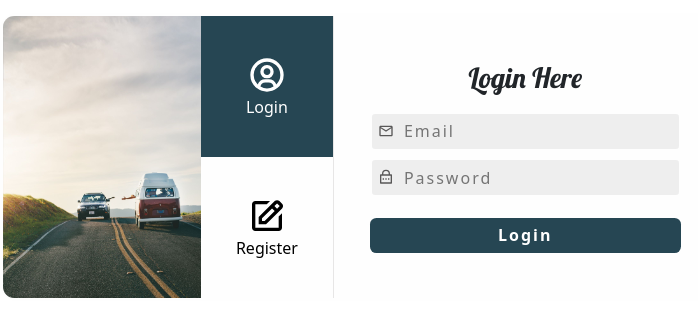
Test: Given a LoginRegisterForm component › When invoked and the user clicks on the Register field › Then it should render 3 input fields and a button wth the text 'Register'
Click the text "Register" at [267, 248], box [236,236,298,260]
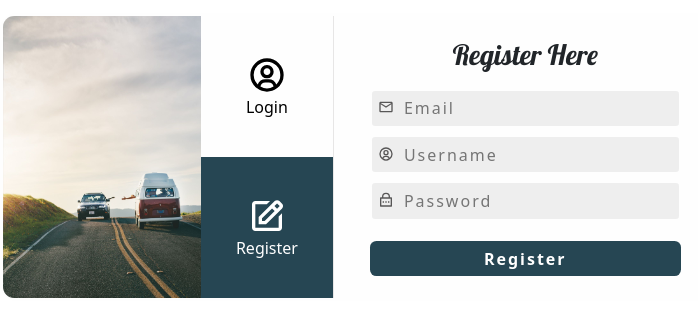
Expected: the field labelled "Email" is shown, [372,91,679,126]
Result: the field labelled "Username" is shown at [372,137,679,172]
Result: the button "Register" is shown at [370,241,681,276]
